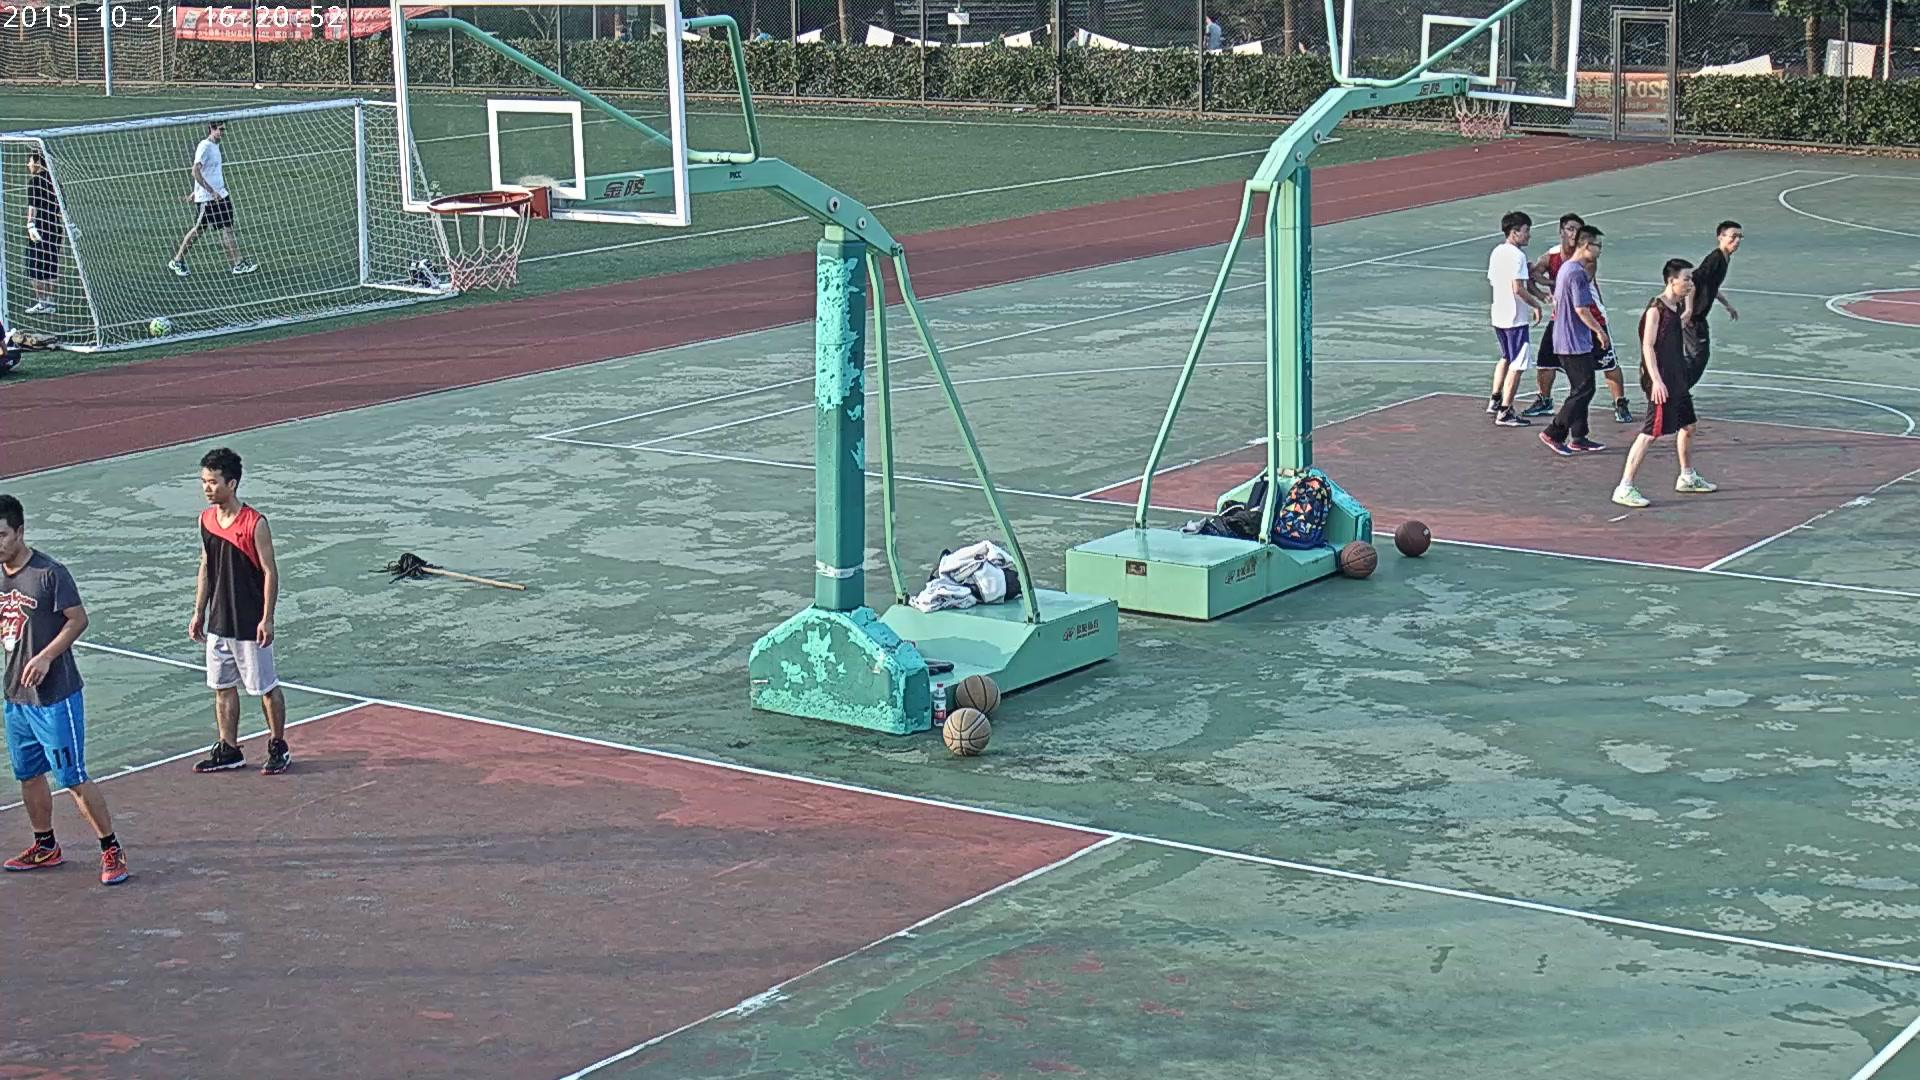face: (200, 466, 228, 504), (0, 519, 17, 561), (1564, 218, 1582, 247), (1676, 268, 1694, 295), (1723, 226, 1742, 253), (1590, 235, 1602, 261), (1519, 224, 1531, 245), (213, 120, 225, 139), (26, 157, 36, 172), (1299, 41, 1303, 53), (755, 27, 761, 32), (1204, 16, 1208, 23), (1076, 31, 1079, 35)
